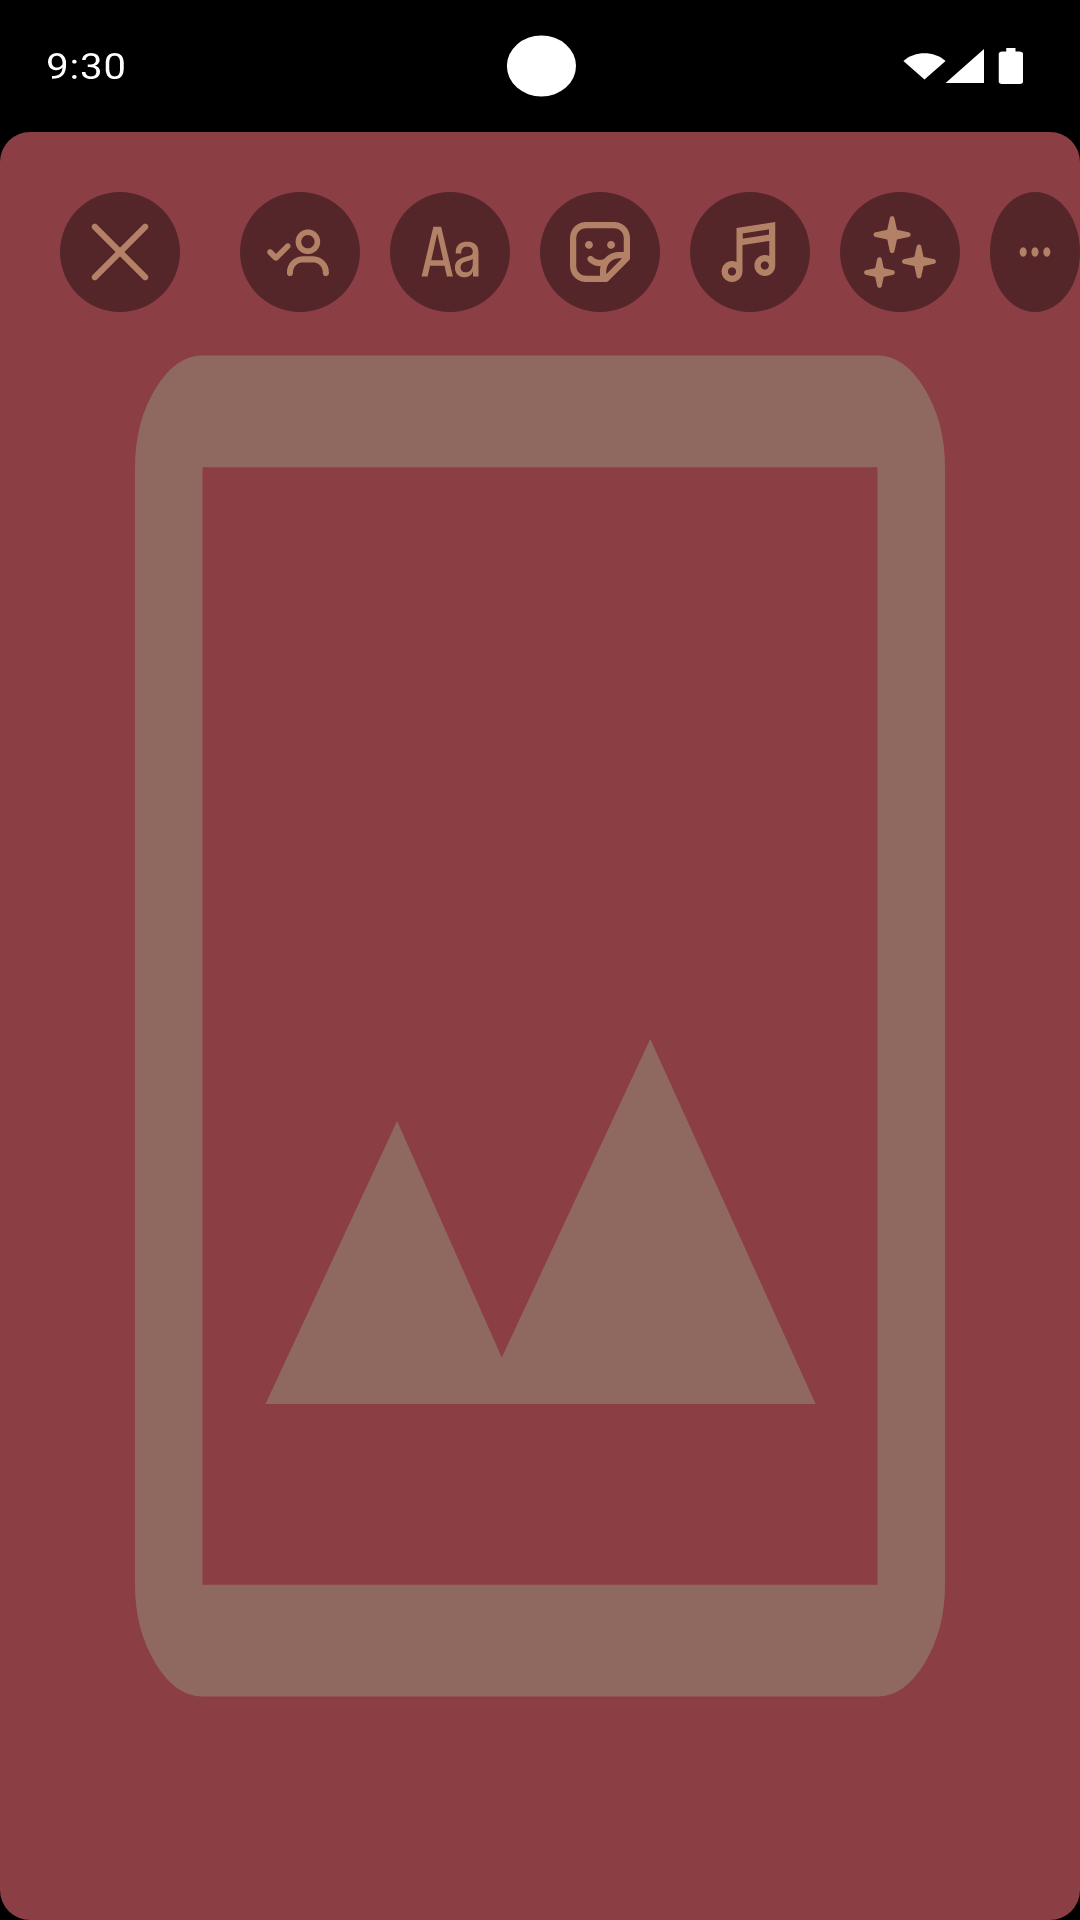

Screen size 1080x1920. Icon name, then its box in pixels as BBox(x1, y1, x2, y2):
close brown: BBox(60, 192, 180, 312)
filters: BBox(840, 192, 960, 312)
music: BBox(690, 192, 810, 312)
partnership: BBox(240, 192, 360, 312)
text: BBox(390, 192, 510, 312)
